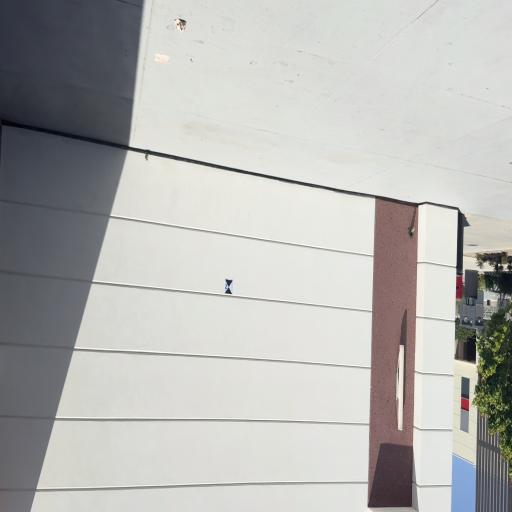target7: (225, 279, 233, 294)
